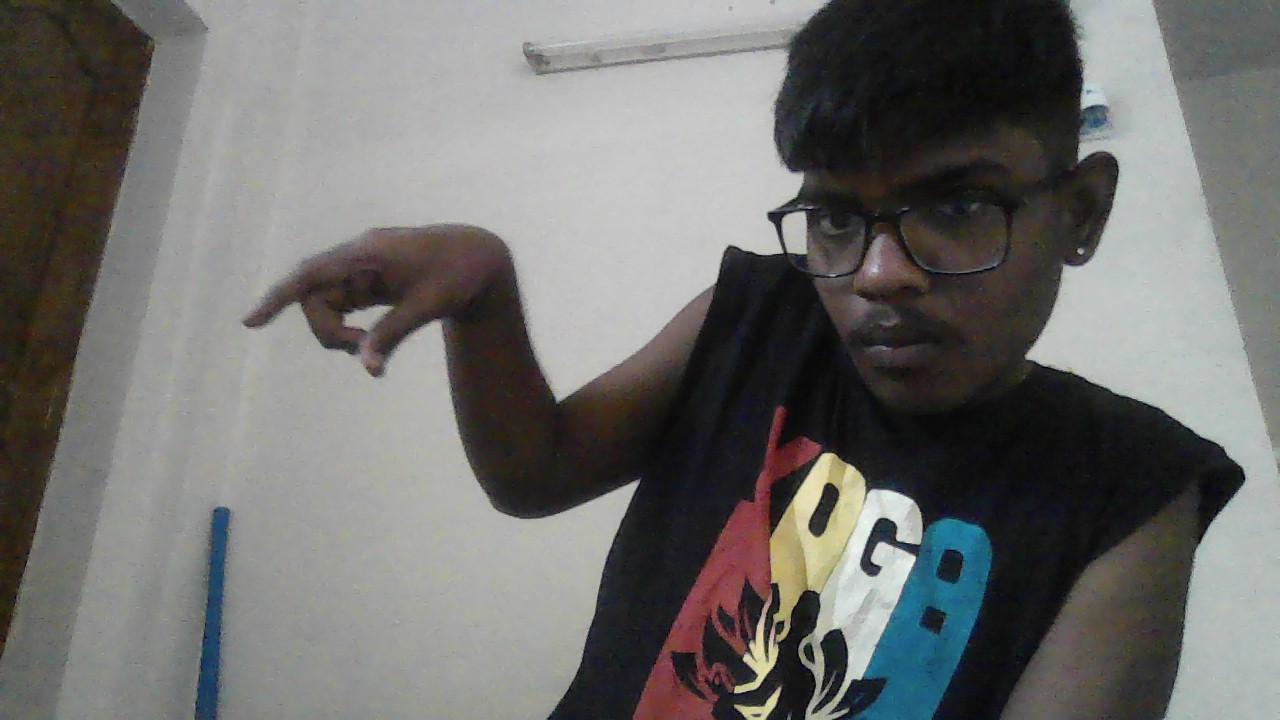Q: (243, 224, 517, 377)
